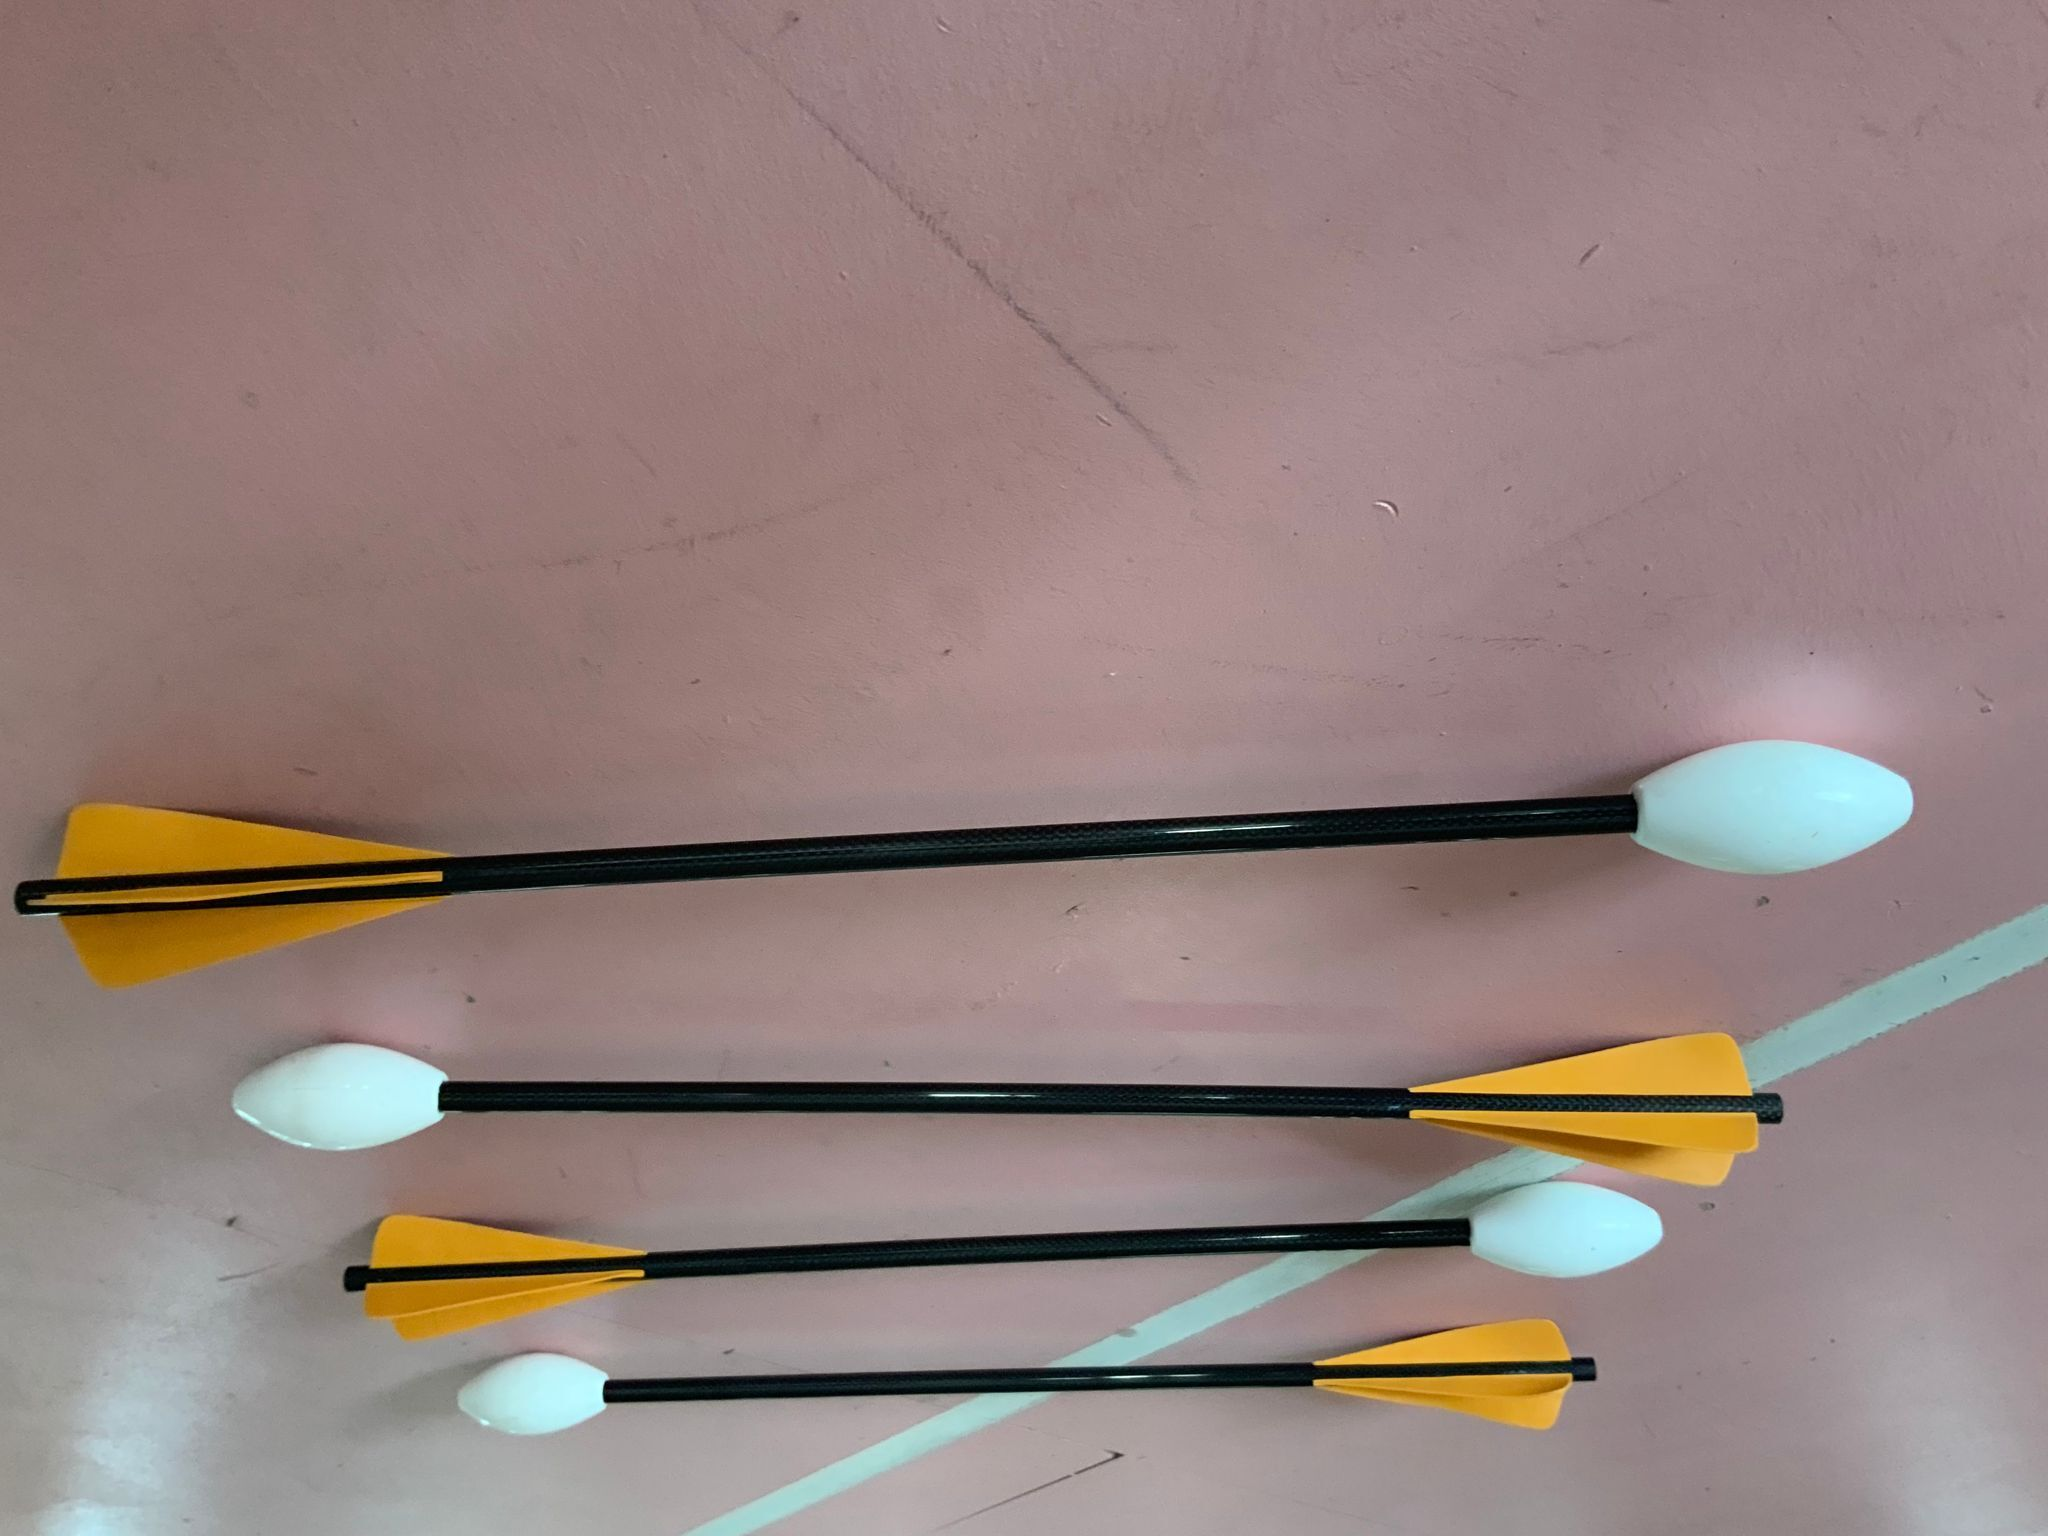arrow: (15, 734, 1921, 995), (234, 1034, 1787, 1189), (343, 1183, 1664, 1341), (456, 1317, 1601, 1439)
arrowFront: (1629, 736, 1914, 876), (231, 1037, 455, 1150), (1467, 1184, 1667, 1278), (455, 1354, 610, 1438)
